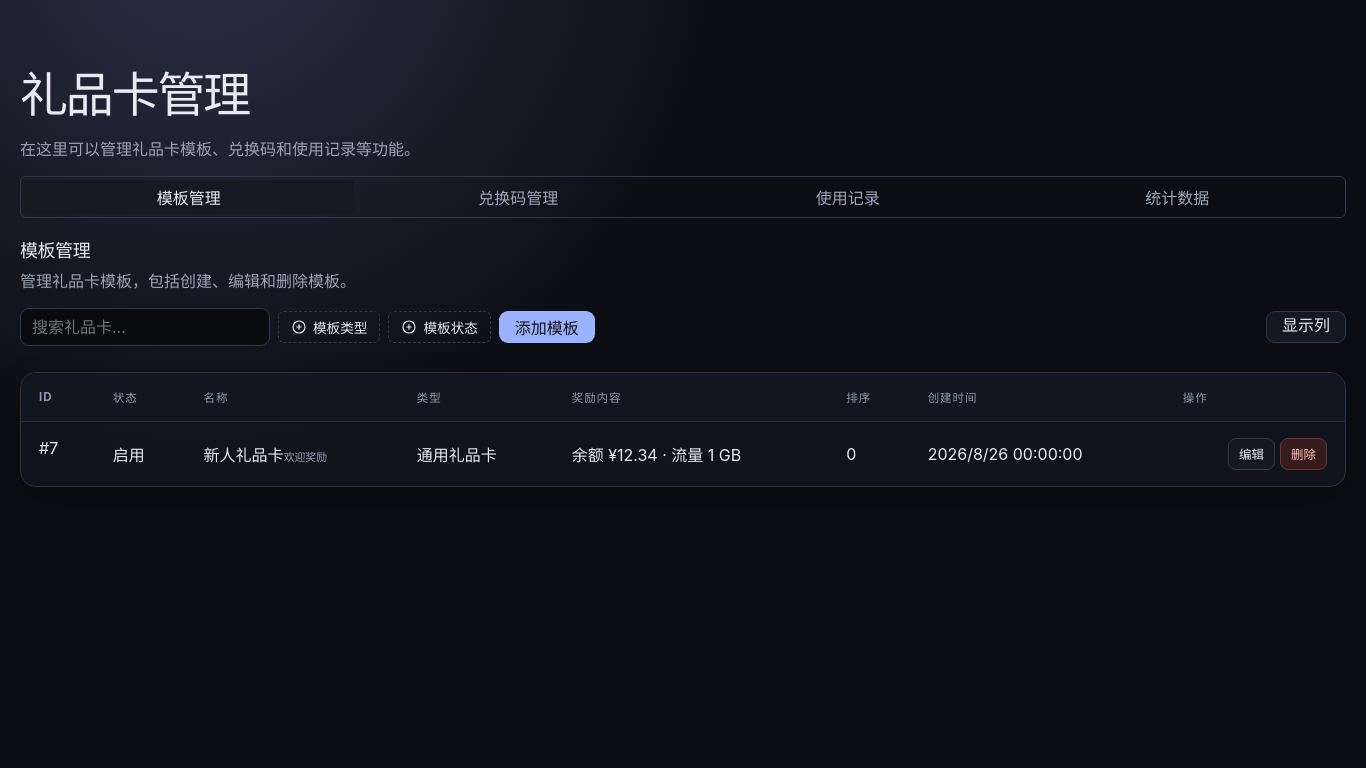
Test: GiftCardManagementPage › searches template names and lets administrators choose visible columns
The image size is (1366, 768).
Check: the text "新人礼品卡" is shown, box [204,445,284,465]
Type "新人" into the field labelled "搜索礼品卡" at (145, 327), box [20,308,270,346]
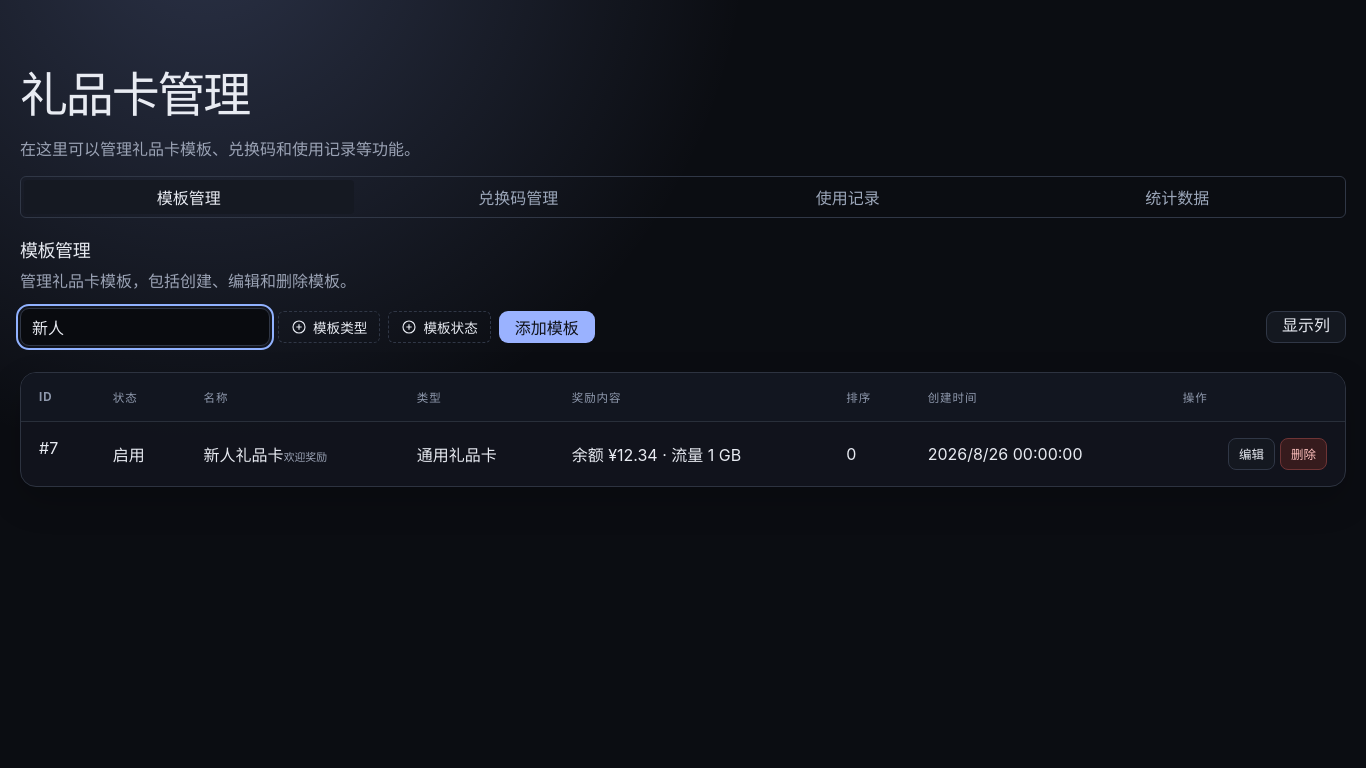
Click the heading "显示列" at (1306, 327), box [1266,311,1346,343]
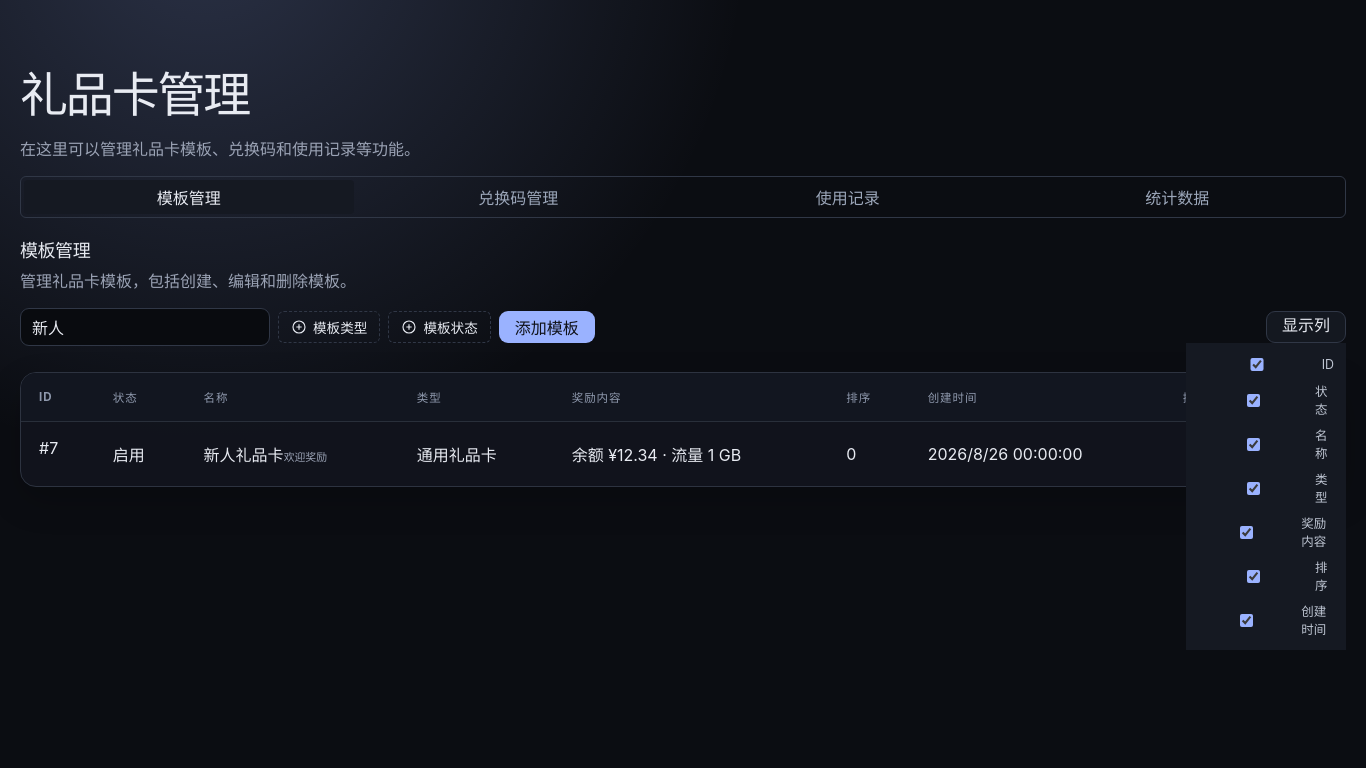
Click the checkbox labelled "创建时间" at (1247, 620), box [1202,614,1291,626]
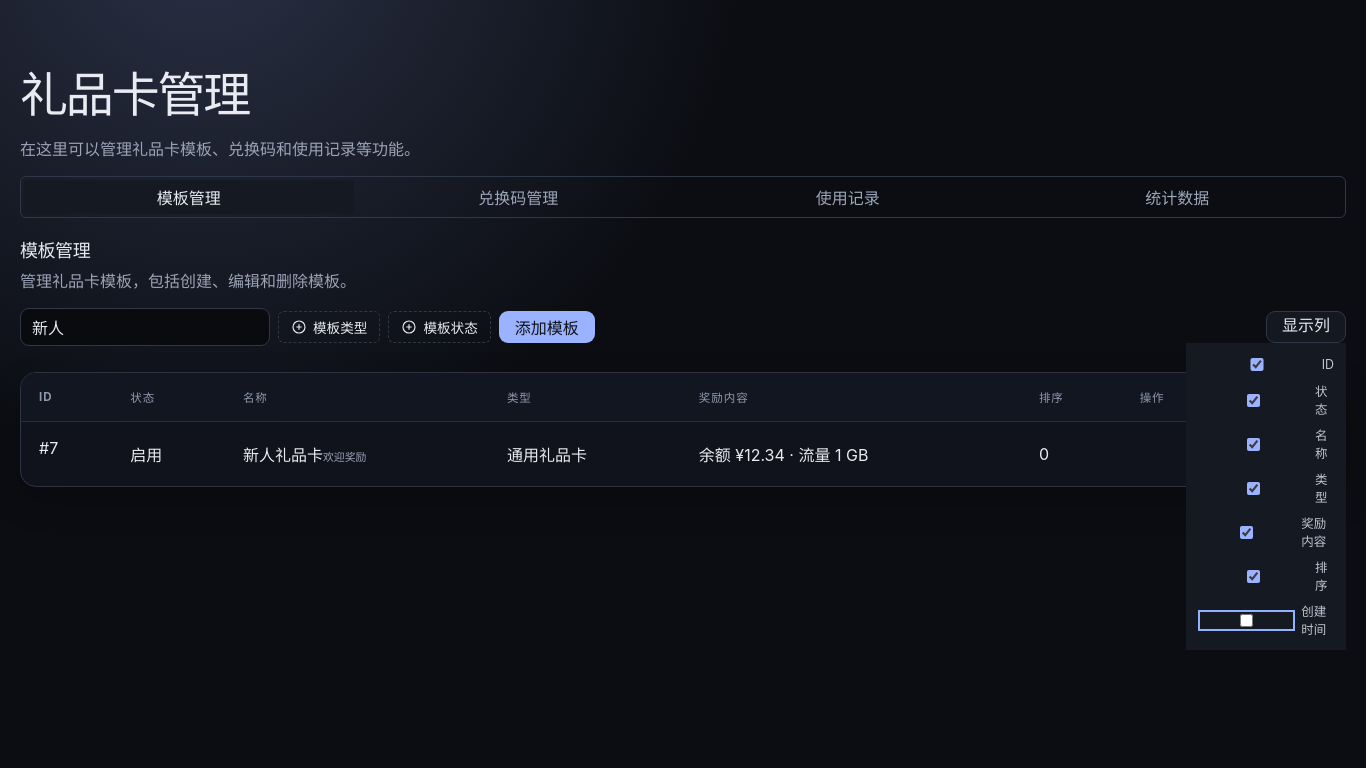
Click the checkbox labelled "创建时间" at (1247, 620), box [1202,614,1291,626]
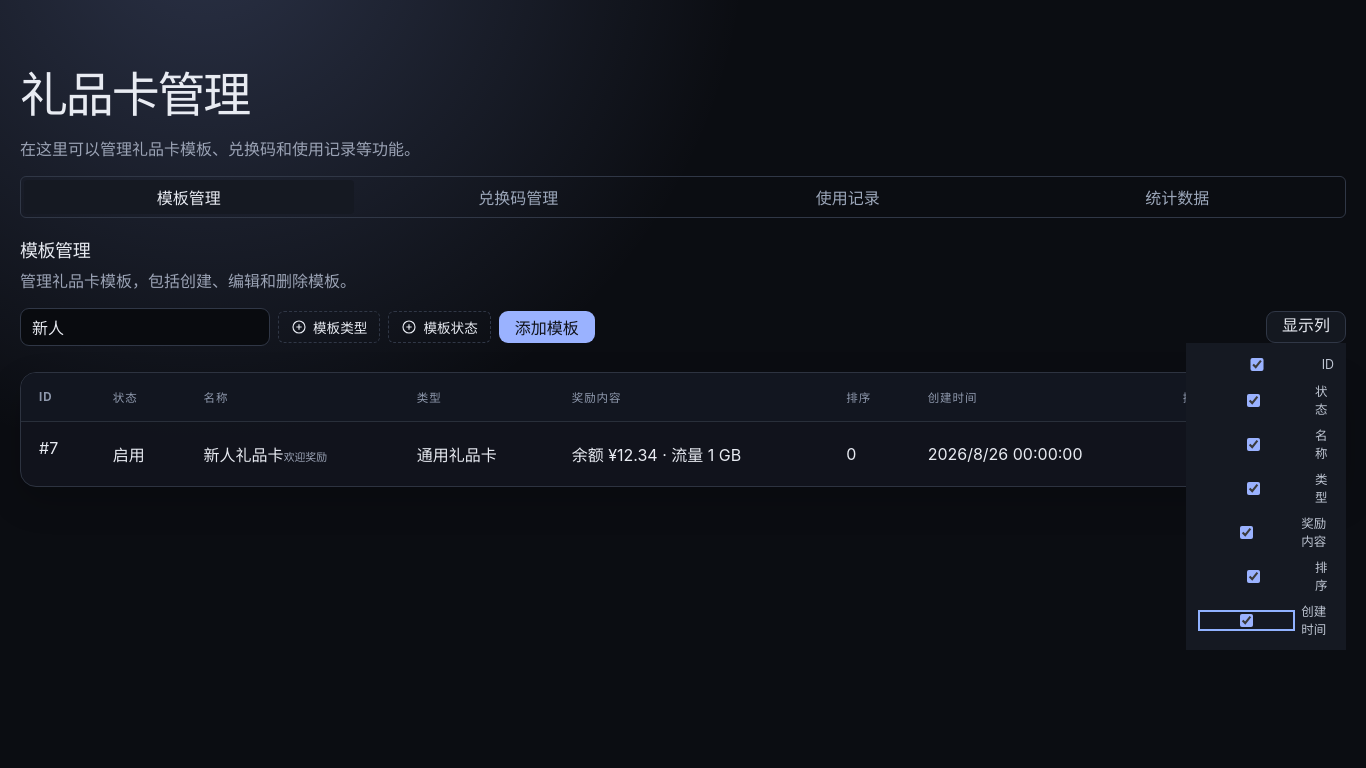
Check: the column heading "创建时间" is shown, box [910,373,1165,422]
